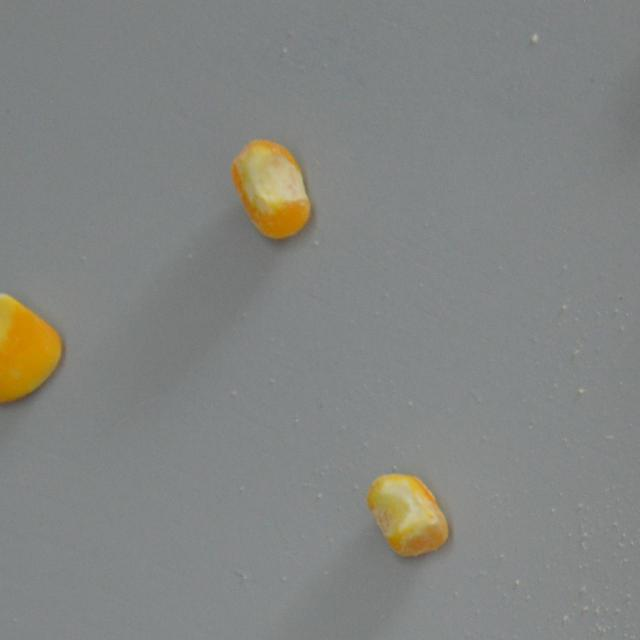pelicula: (230, 138, 309, 238), (368, 472, 450, 558), (0, 293, 64, 403)
